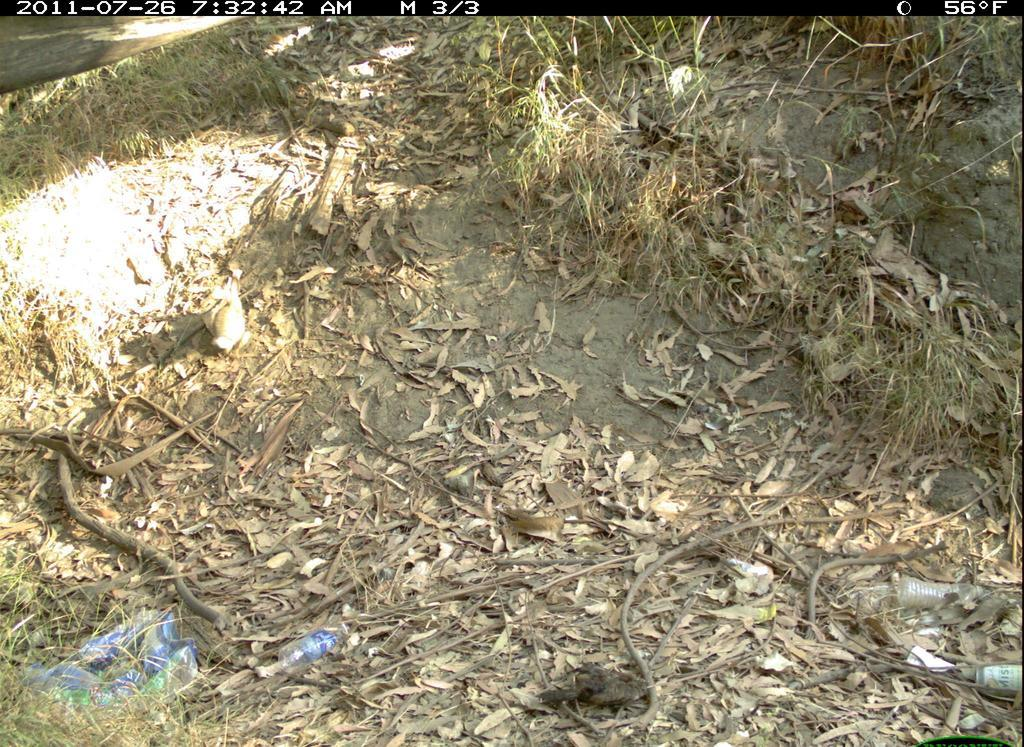rabbit: (181, 274, 260, 360)
